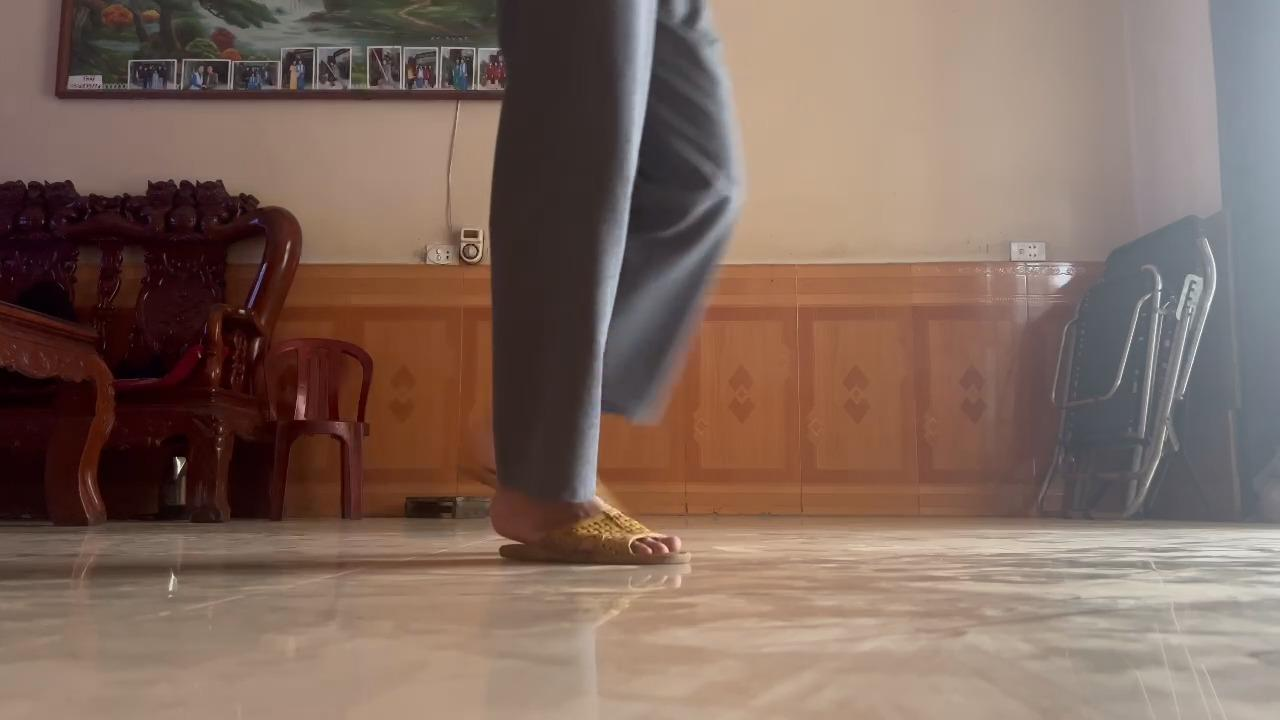no-boot: (483, 487, 694, 574)
